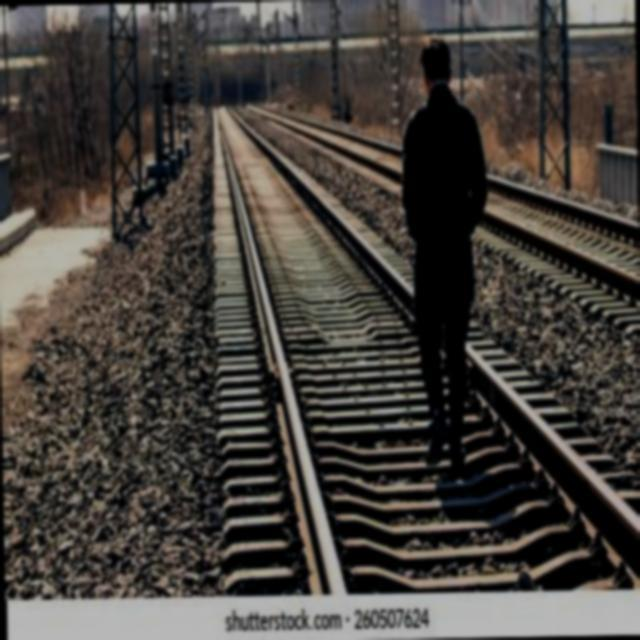danger: (374, 25, 499, 485)
rail: (222, 144, 346, 596), (468, 344, 640, 573), (466, 345, 640, 566), (238, 119, 414, 320), (484, 209, 640, 298), (256, 111, 405, 184), (490, 176, 640, 246), (269, 109, 403, 157)
